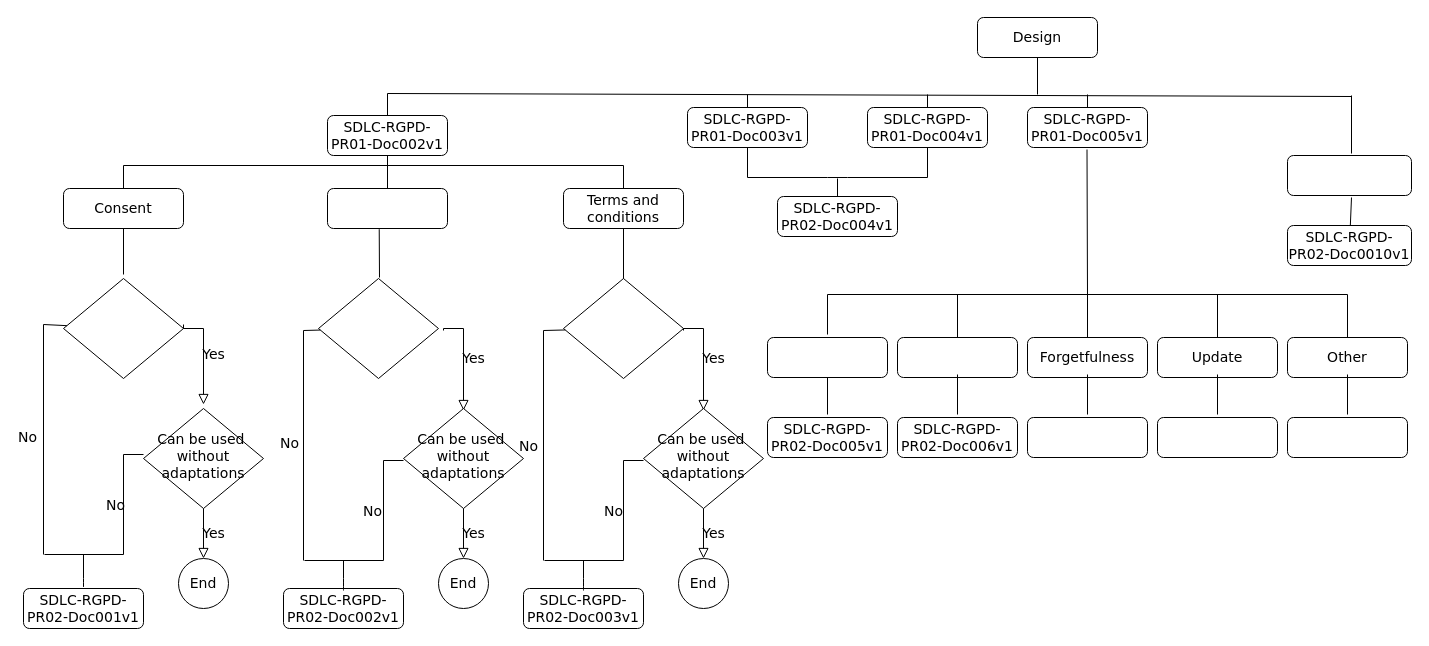
The diagram is 1429 pixels wide and 646 high, and some of its shapes have lost their labels. Here are the shapes that lost their labels. From the top down, the centre of each, then its label:
point 1349,175: SDLC-RGPD-PR01-Doc006v1
point 387,208: Privacy
point 123,328: Is there already a consent model?
point 378,328: Is there already a privacy policy model?
point 623,328: Already exists a terms and conditions policy mode?
point 827,357: Acess
point 957,357: Portability
point 1087,437: SDLC-RGPD-PR02-Doc007v1
point 1217,437: SDLC-RGPD-PR02-Doc008v1
point 1347,437: SDLC-RGPD-PR02-Doc009v1
